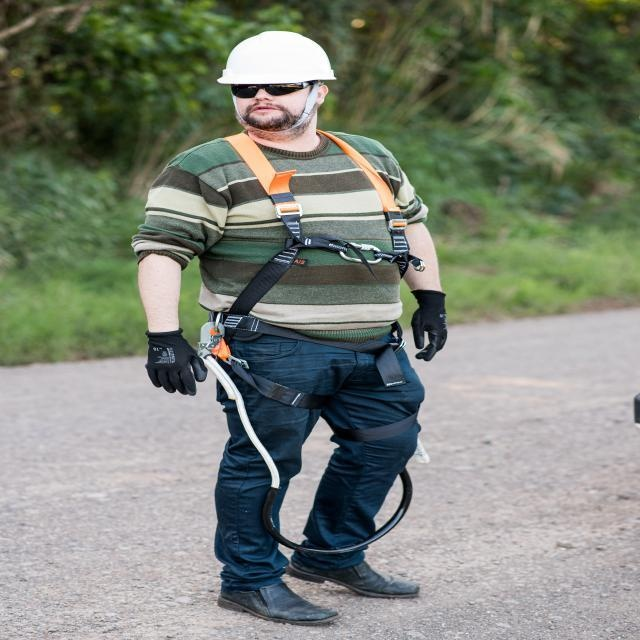Arnes_seguridad: (199, 122, 421, 404)
